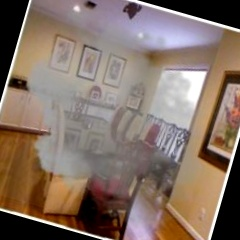smoke: (18, 49, 187, 198)
